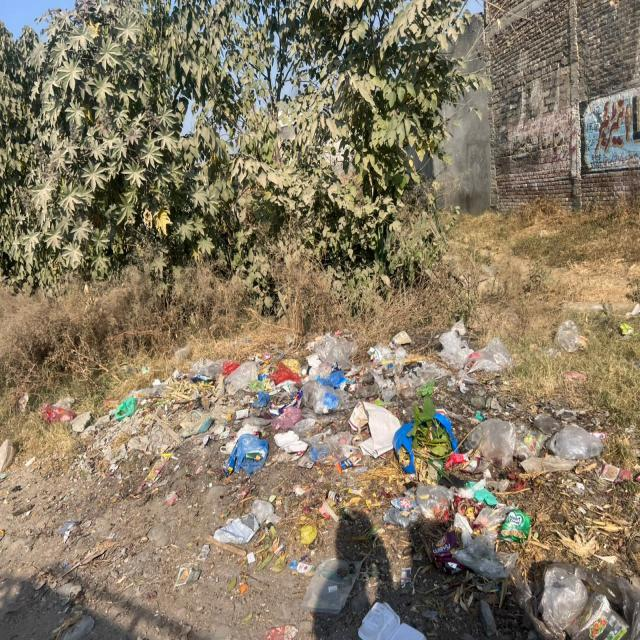garbage: (140, 340, 638, 494)
